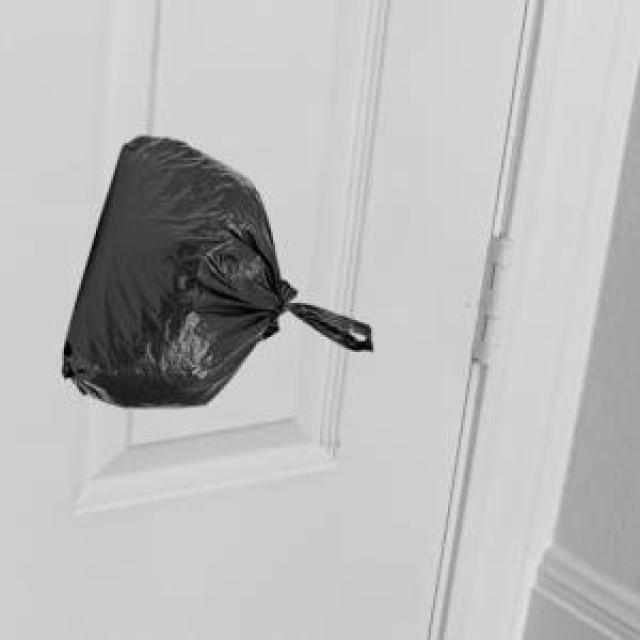miscellaneous trash: (58, 132, 369, 403)
